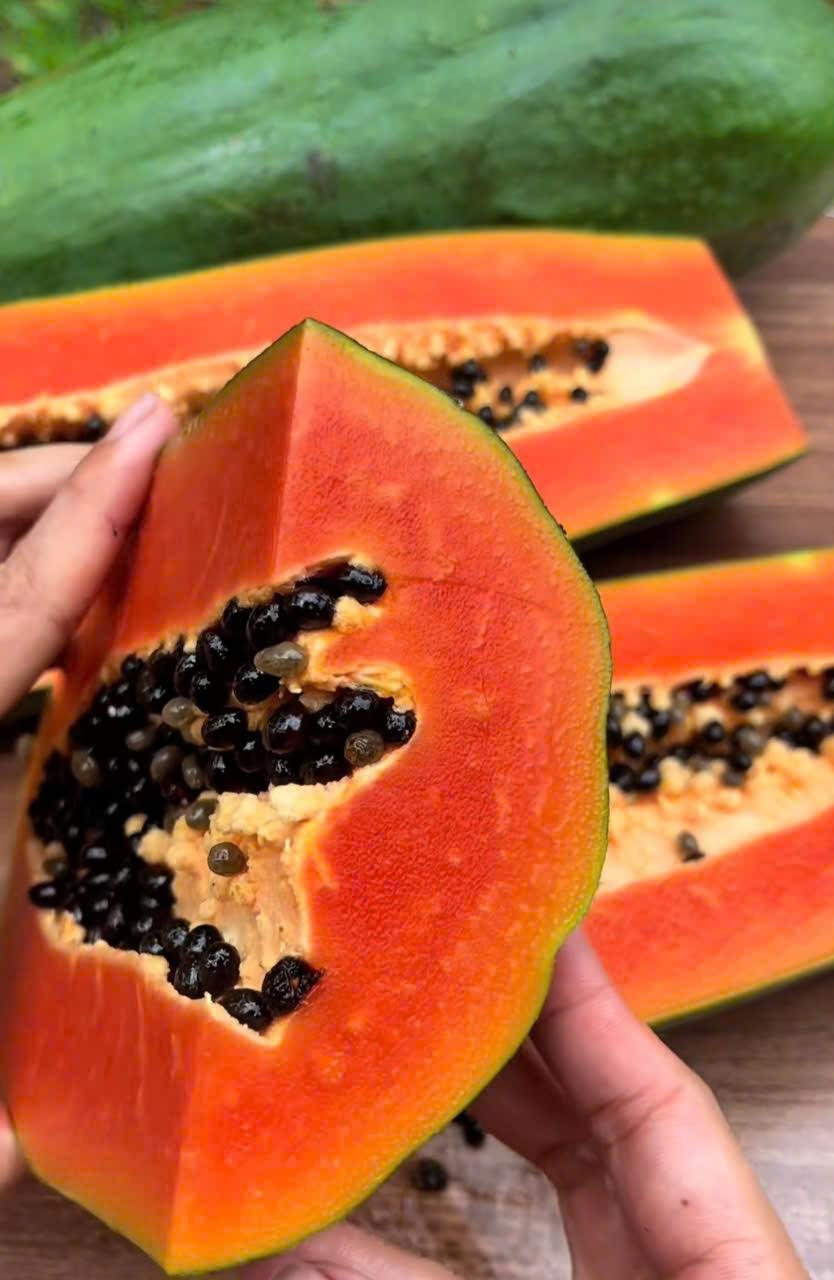papaya: (100, 340, 613, 1233), (0, 16, 791, 434), (620, 543, 834, 982)
